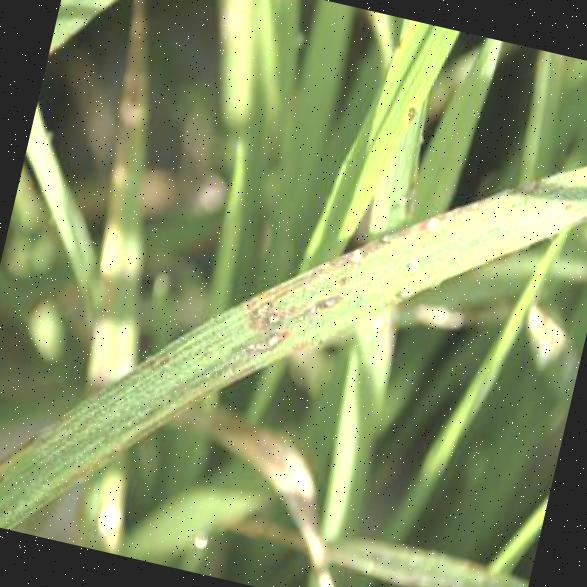Leaf_smut: (234, 307, 308, 376), (302, 282, 362, 335), (236, 280, 282, 333)
